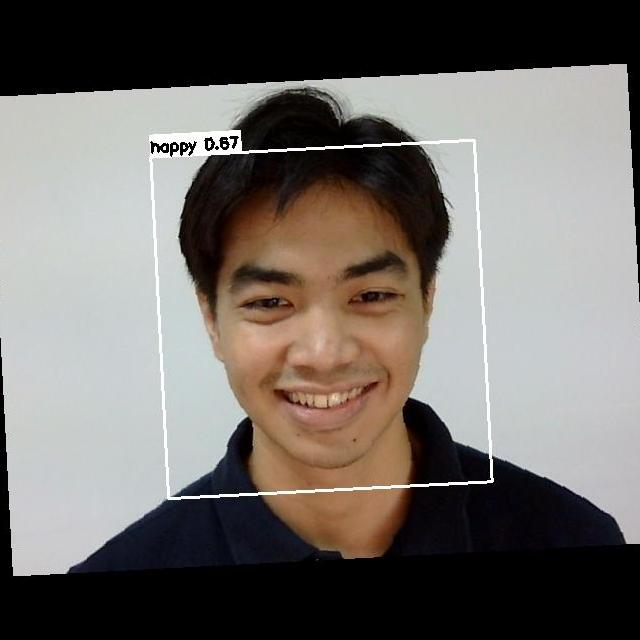Happy: (218, 231, 419, 438)
